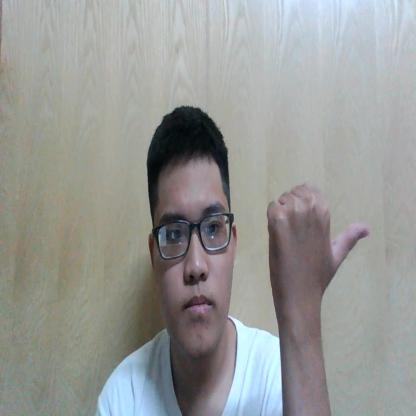left: (267, 176, 371, 294)
